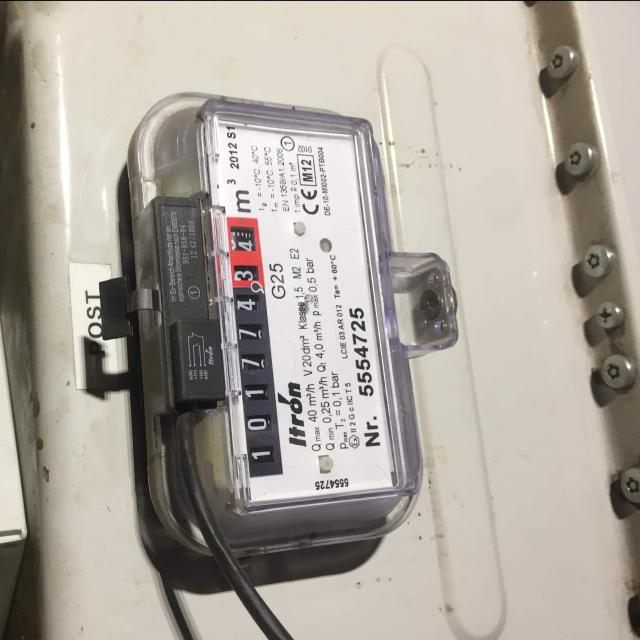gaz_meter: (214, 112, 403, 507)
indication: (224, 215, 285, 481)
